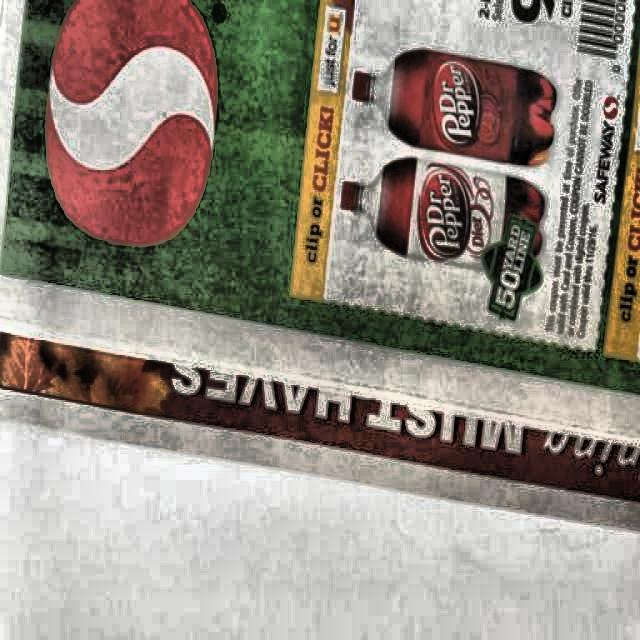Paper: (0, 0, 639, 530)
